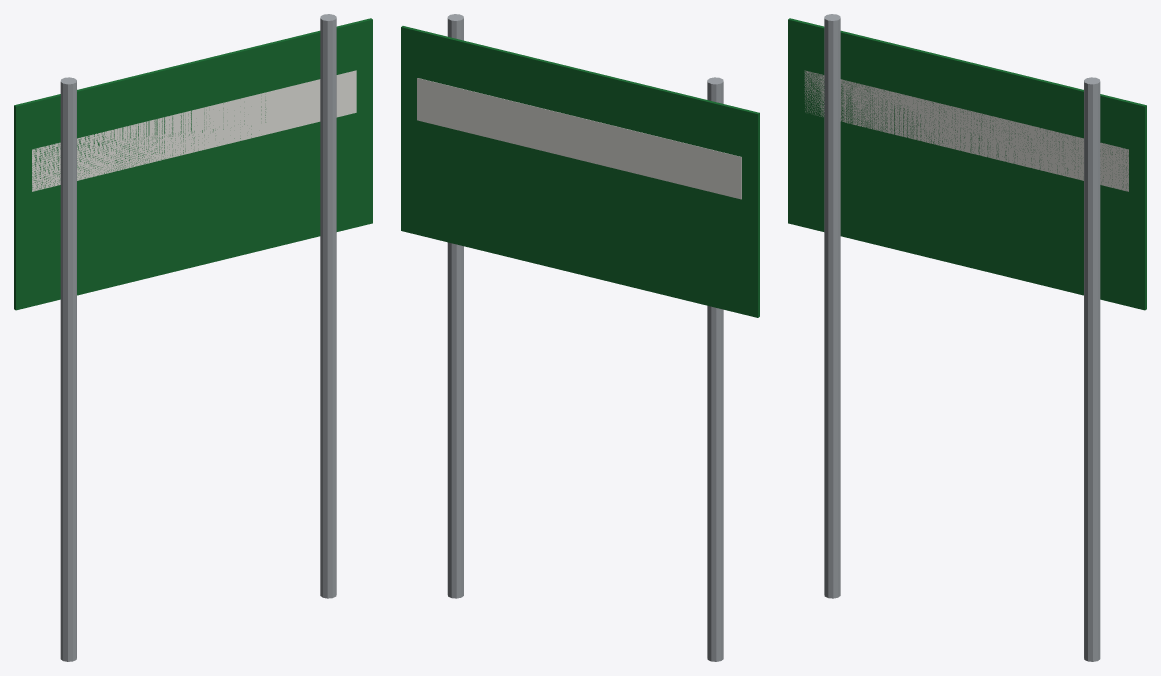
Rendered from street.traffic.sign_direction.glb.
3 renders of one model, left to right at view 1: azimuth 30°, elevation 25°; view 2: azimuth 150°, elevation 25°; view 3: azimuth 330°, elevation 25°, orthographic.
Parts seen in each view (by area): view 1: main__plastic_green, main__steel_galvanised, main__paint_white; view 2: main__plastic_green, main__paint_white, main__steel_galvanised; view 3: main__plastic_green, main__steel_galvanised, main__paint_white.
Boxes of the visible parts, x1,y1,x2,y2 form: main__plastic_green: (14, 18, 372, 310); main__steel_galvanised: (60, 14, 336, 661); main__paint_white: (32, 70, 356, 191); main__plastic_green: (401, 26, 759, 317); main__paint_white: (417, 78, 741, 199); main__steel_galvanised: (447, 14, 723, 661); main__plastic_green: (788, 18, 1146, 310); main__steel_galvanised: (824, 14, 1100, 661); main__paint_white: (804, 70, 1128, 191).
Bounding box in the file's own units: 2.2 × 3.4 × 0.112.
